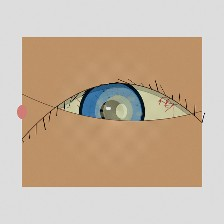corneal_ulcer: (92, 91, 144, 132)
